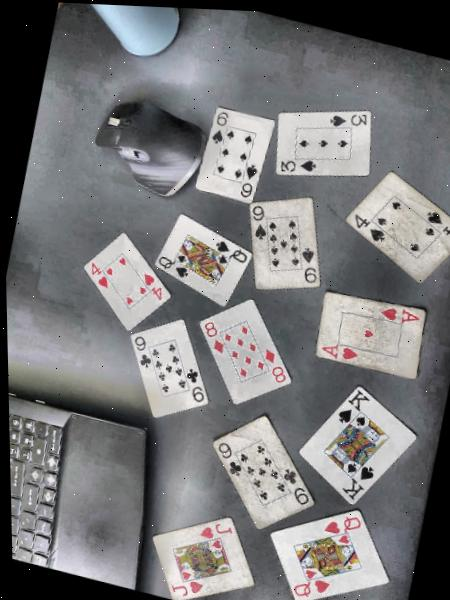3P: (316, 98, 379, 138), (275, 151, 319, 182)
4C: (77, 254, 115, 298), (139, 264, 170, 304)
4P: (345, 205, 394, 251), (420, 204, 450, 240)
6P: (204, 103, 233, 149), (237, 162, 262, 205)
8D: (259, 343, 292, 389), (198, 313, 230, 359)
9P: (298, 244, 318, 292), (247, 201, 269, 244)
9T: (276, 461, 316, 512), (207, 436, 247, 486), (183, 361, 211, 409), (128, 333, 154, 374)
AC: (318, 336, 362, 367), (376, 301, 423, 329)
JC: (166, 577, 209, 600), (195, 520, 238, 542)
KP: (327, 383, 374, 430), (338, 459, 384, 504)
QC: (317, 512, 364, 538), (287, 577, 339, 600)
